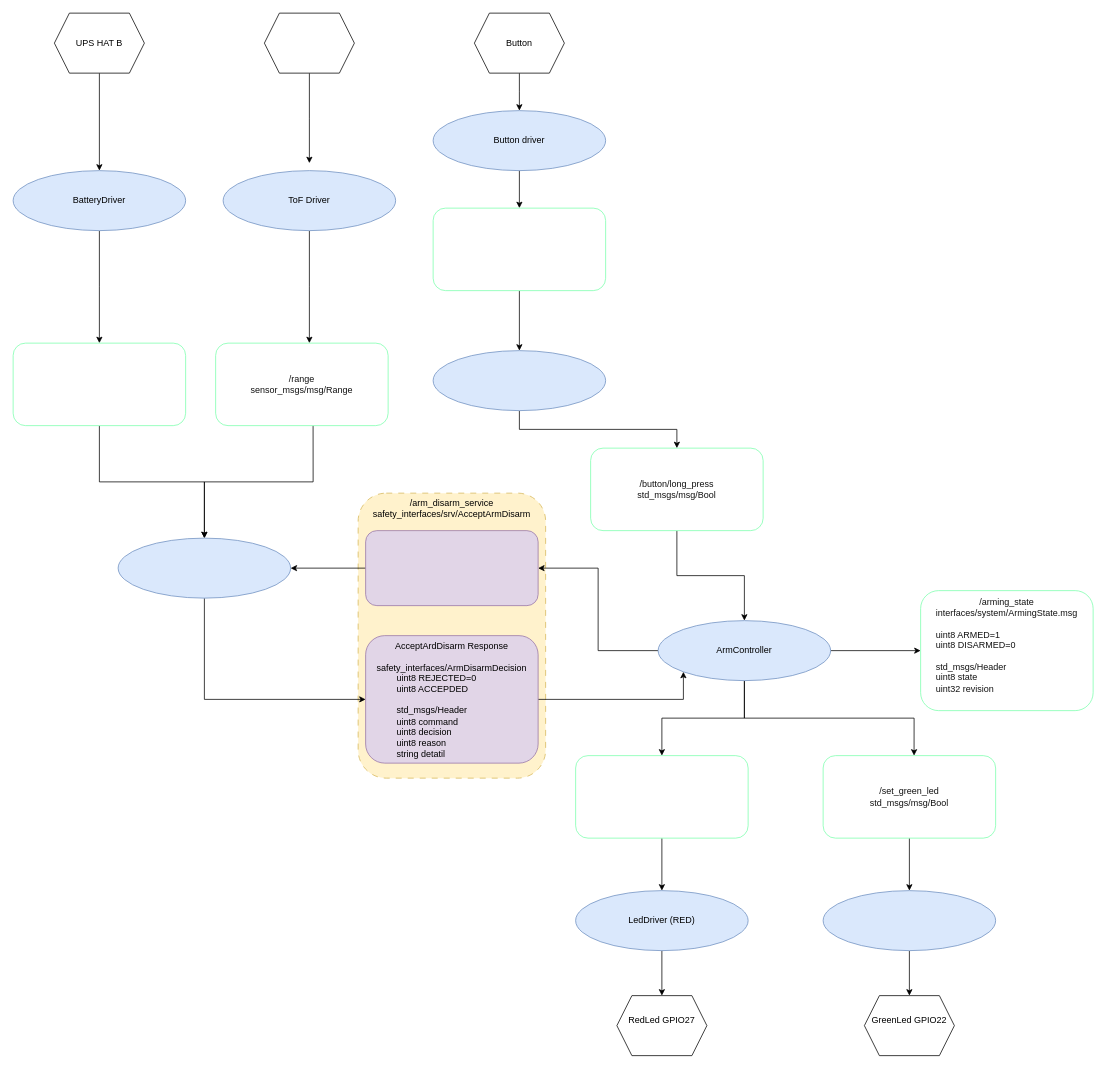
This 1106x1069 diagram has some shape labels left out. The centre of each missing label's shape, as x and y in pixels:
"/battery_state sensor_msgs/msg/BatteryState" goes at [99,384].
"/button_state std_msgs/msg/Bool" goes at [519,249].
"/set_red_led std_msgs/msg/Bool" goes at [661,796].
"AcceptArmDisarm Request uint8 ARM=1 uint8 DISARM=2 uint8 command" goes at [451,568].
"ArmDisarmSafety" goes at [204,567].
"ButtonLongPress Adapter" goes at [519,380].
"LedDriver (GREEN)" goes at [909,920].
"ToF VL53LOX" goes at [309,42].
